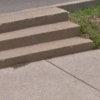stairs: (0, 8, 93, 66)
